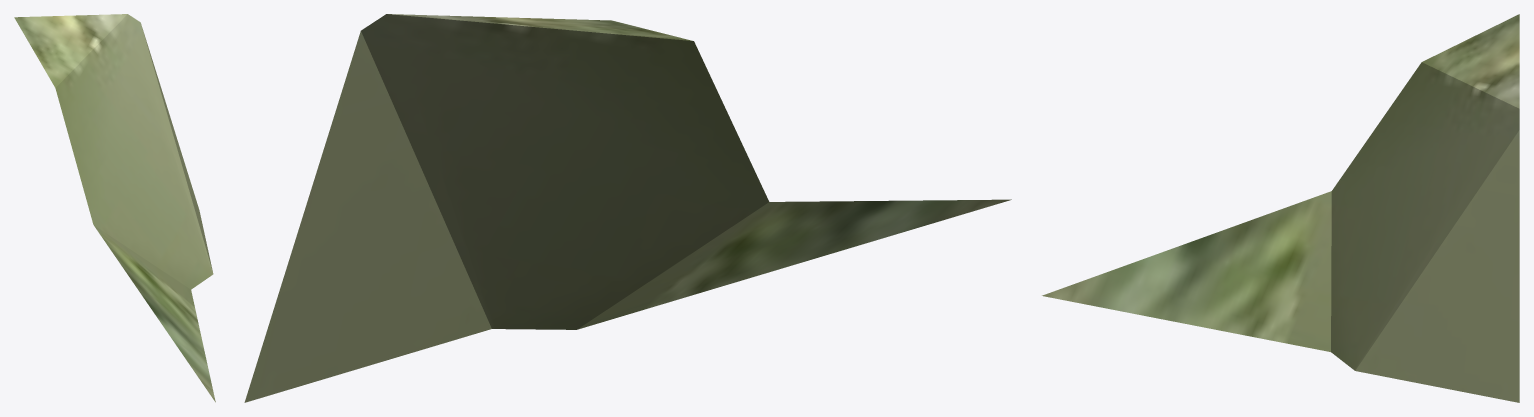
The picture shows the model from 3 angles, left to right: view 1: azimuth 30°, elevation 25°; view 2: azimuth 150°, elevation 25°; view 3: azimuth 270°, elevation 25°; orthographic projection. The views are drawn at different scales.
Size of the model in its own units: 0.508 by 0.6234 by 0.9582.
Materials: 1 (1 with a texture image).
